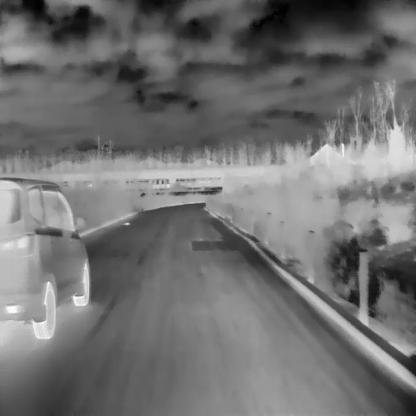car: (0, 175, 89, 338)
